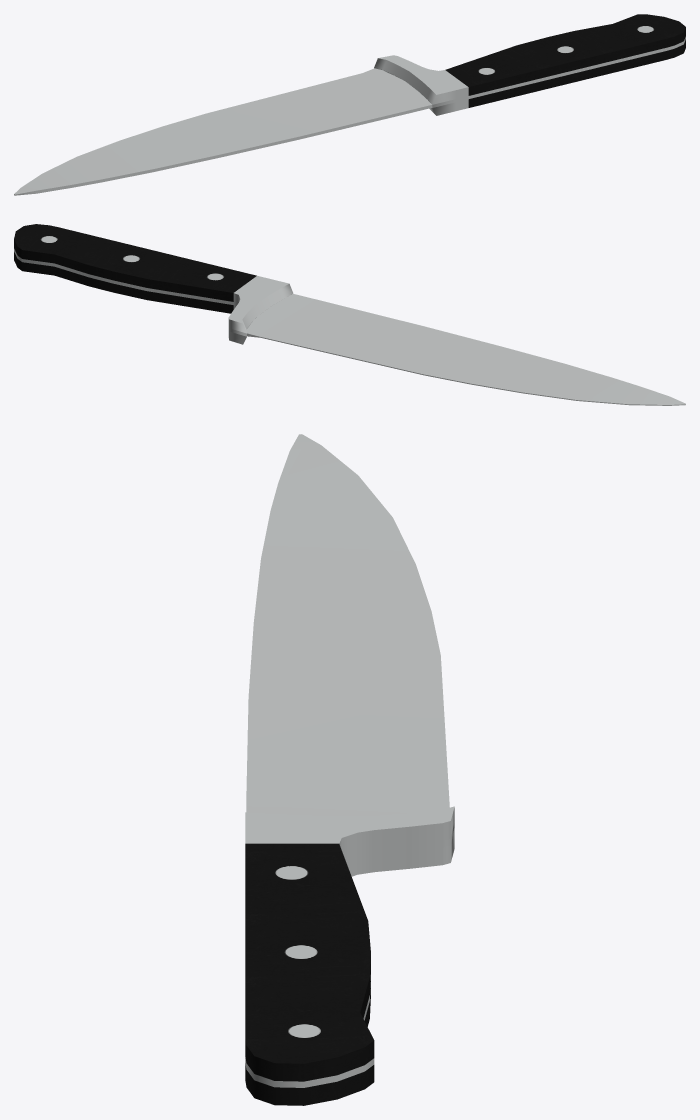
File: knife.gltf
3 views of the same model, one above another, from view 1: azimuth 30°, elevation 25°; view 2: azimuth 150°, elevation 25°; view 3: azimuth 270°, elevation 25° (orthographic). The views are drawn at different scales.
Visible parts, largest first — view 1: model_0; view 2: model_0; view 3: model_0.
Boxes of the visible parts, bbox=[...] form: model_0: bbox=[14, 14, 685, 195]; model_0: bbox=[14, 224, 685, 405]; model_0: bbox=[245, 434, 454, 1105].
Bounding box in the file's own units: 0.5932 × 0.0179 × 0.0808.
Materials: 1 (1 with a texture image).
